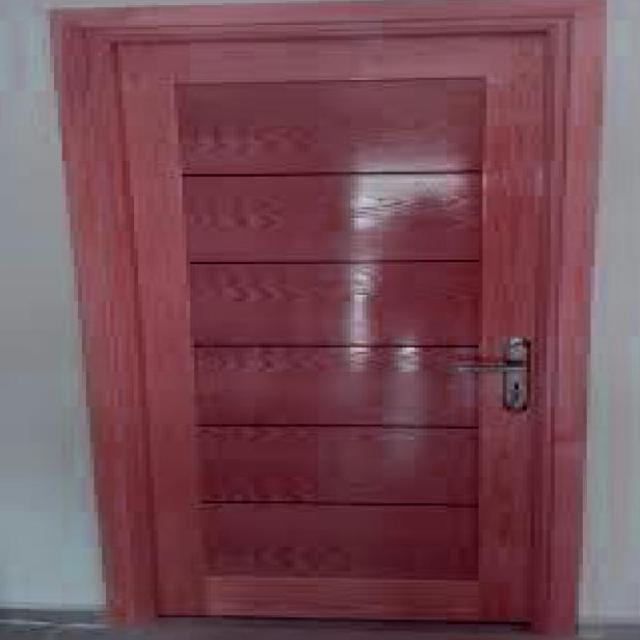door: (52, 3, 594, 633)
